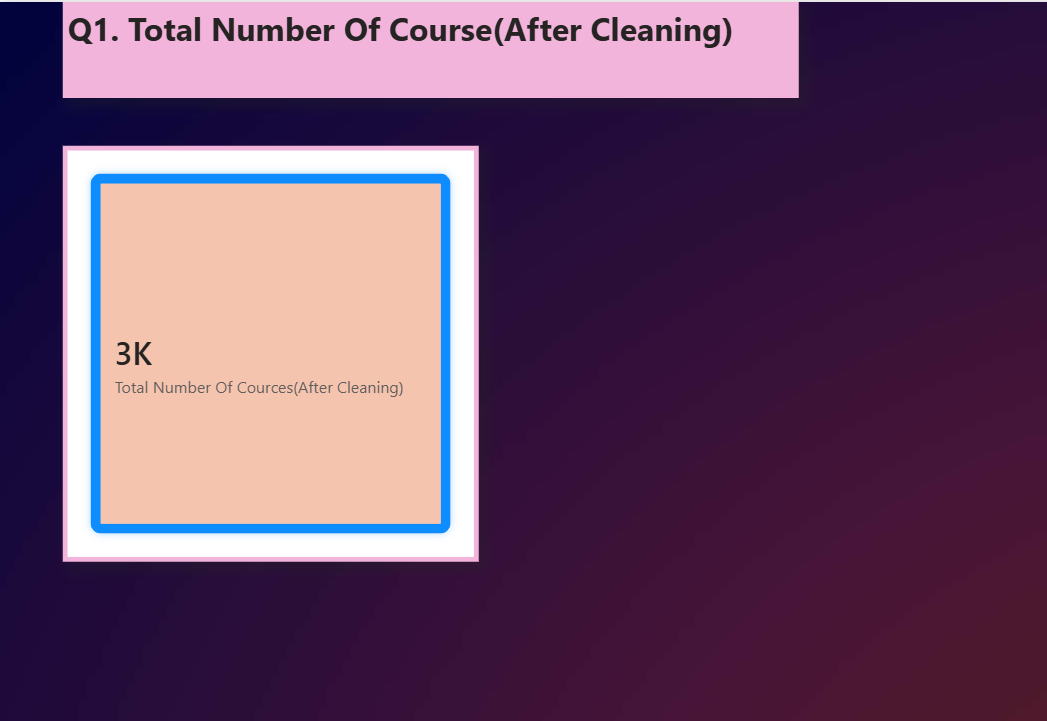

Layout of this report page (visuals, bound fields, positions):
{"tool":"powerbi","page":{"name":"Q1","canvas":[1280,720],"ordinal":1},"visuals":[{"type":"cardVisual","fields":{"Data":["Online_Courses.Total Number Of Cources(After Cleaning)"]},"box":[64,144,416,416],"z":0},{"type":"textbox","box":[64,0,736,96],"z":1000}]}

Visuals, with their boxes on the page's 1280x720 design canvas (x1, y1, x2, y2). These are canvas units, not pixel positions in the 1047x721 screenshot, which may show the page scaled, cropped or inside an application window:
cardVisual - Online_Courses.Total Number Of Cources(After Cleaning): 64:144:480:560
textbox: 64:0:800:96
